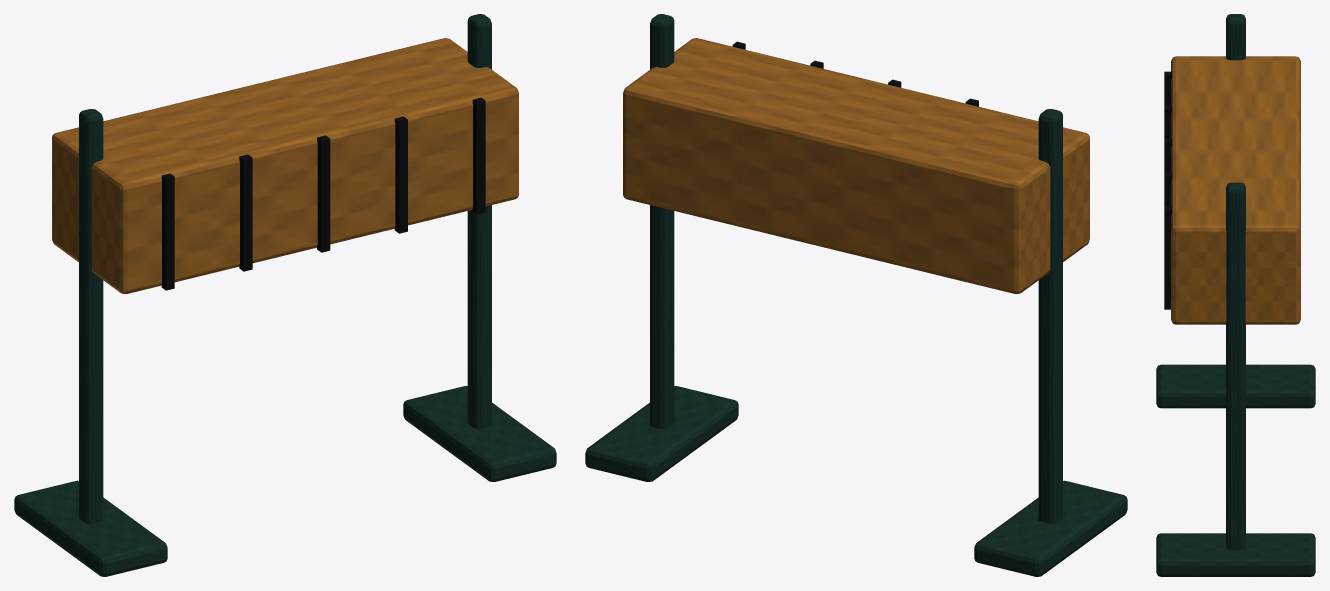
Rendered from maintenance-duct-v1-DSfiQdmb.glb.
3 renders of one model, left to right at view 1: azimuth 30°, elevation 25°; view 2: azimuth 150°, elevation 25°; view 3: azimuth 270°, elevation 25°, orthographic. The views are drawn at different scales.
Parts seen in each view (by area): view 1: Overhead maintenance duct, Maintenance gantry foot, Duct rib; view 2: Overhead maintenance duct, Maintenance gantry foot; view 3: Overhead maintenance duct, Maintenance gantry foot, Duct rib.
Part boxes in pixels (bbox=[...]): Overhead maintenance duct: bbox=[52, 38, 518, 293]; Maintenance gantry foot: bbox=[14, 14, 556, 576]; Duct rib: bbox=[161, 97, 485, 290]; Overhead maintenance duct: bbox=[623, 38, 1089, 293]; Maintenance gantry foot: bbox=[585, 14, 1127, 576]; Overhead maintenance duct: bbox=[1171, 56, 1300, 324]; Maintenance gantry foot: bbox=[1156, 14, 1315, 576]; Duct rib: bbox=[1164, 71, 1171, 309].
Bounding box in the file's own units: 2.35 × 2.1 × 0.8.
Materials: 3 (3 with a texture image).
